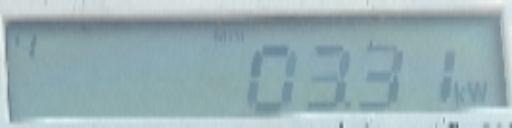0: (241, 28, 300, 117)
1: (434, 41, 456, 109)
3: (305, 24, 347, 117), (363, 34, 405, 112)
d: (343, 98, 355, 109)
